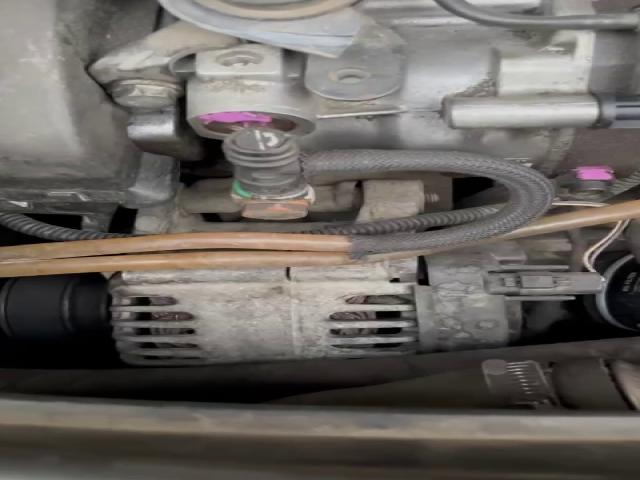alternator: (110, 260, 415, 365)
high_pressure_pump: (162, 0, 640, 188)
